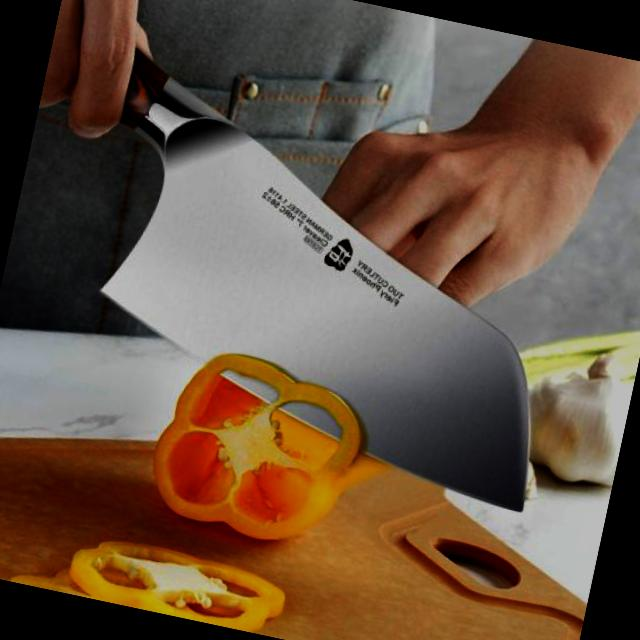cleaver: (0, 0, 626, 516)
